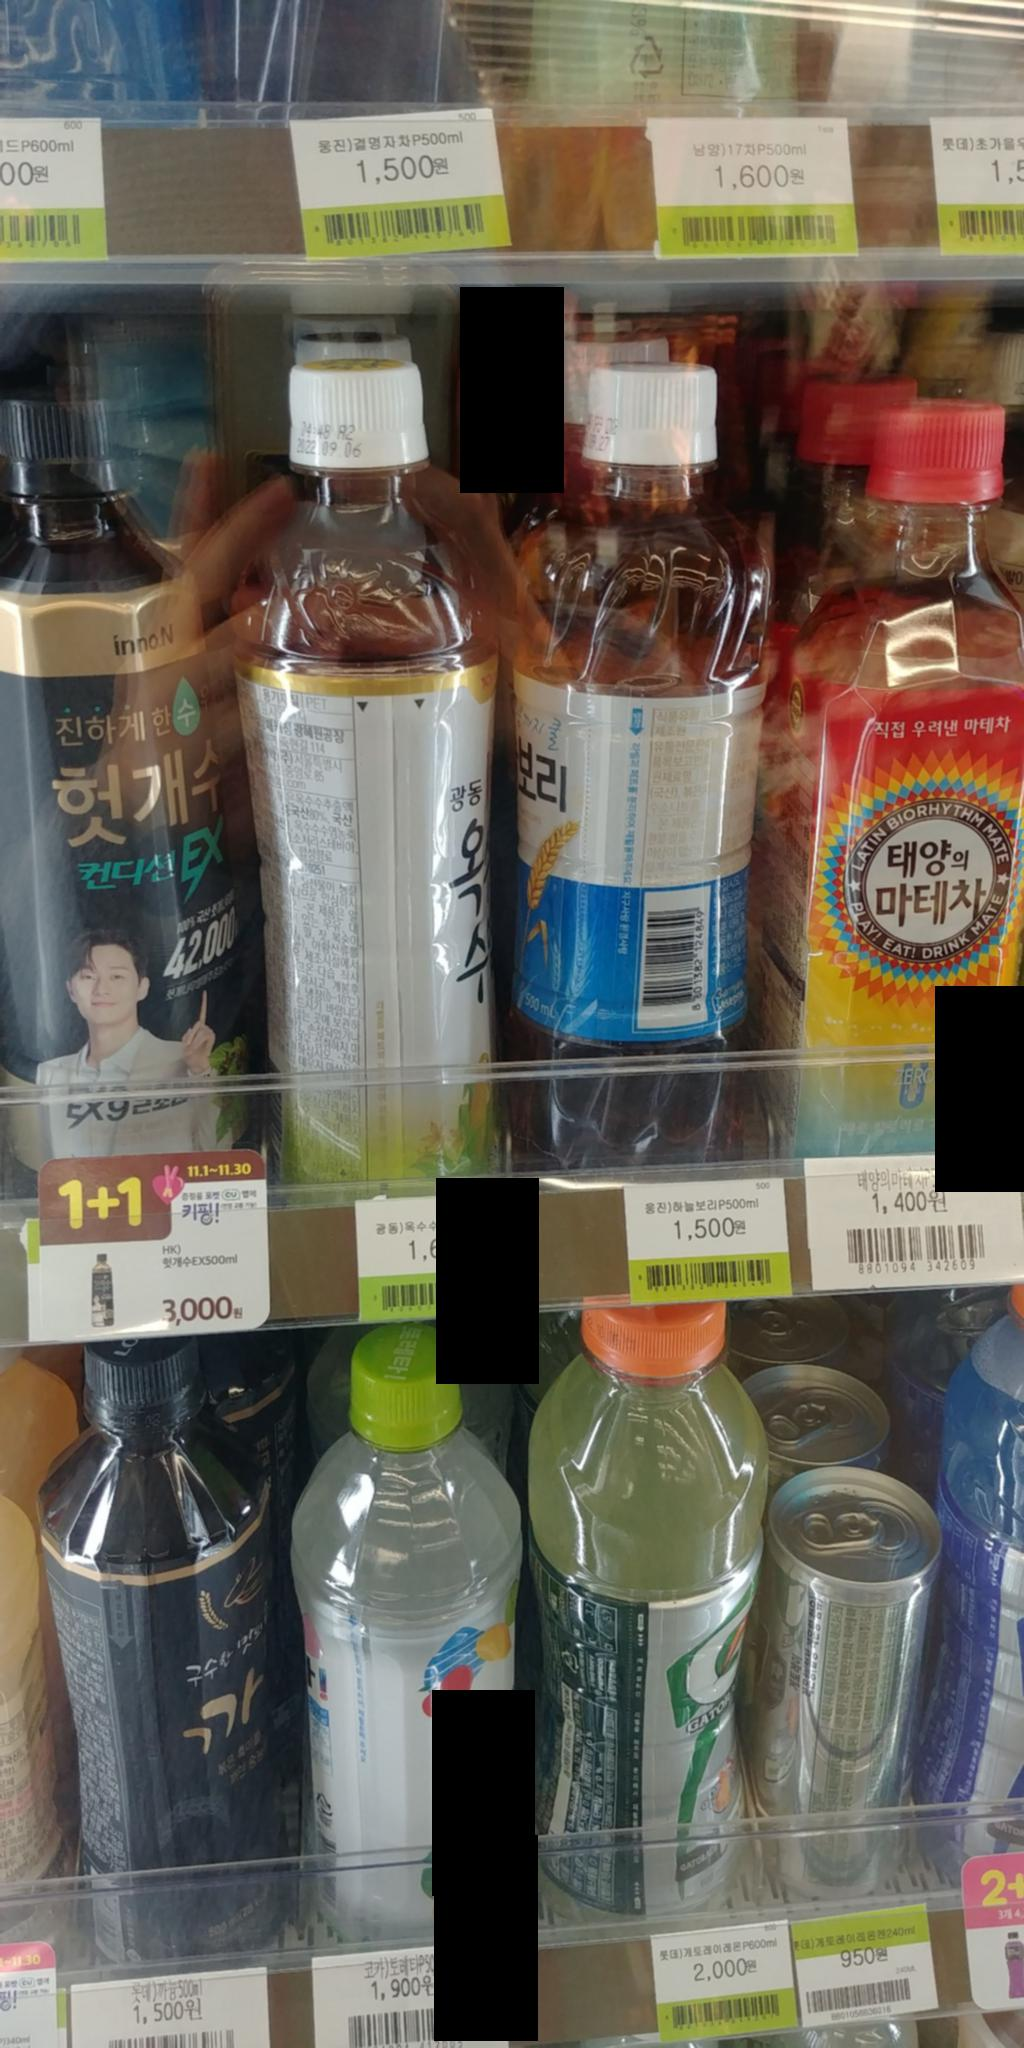gatorade_lemon: (517, 1272, 764, 1924)
haneulbori: (505, 357, 758, 1161)
oksususuyeomcha: (226, 333, 512, 1173)
toreta: (289, 1311, 526, 1938)
